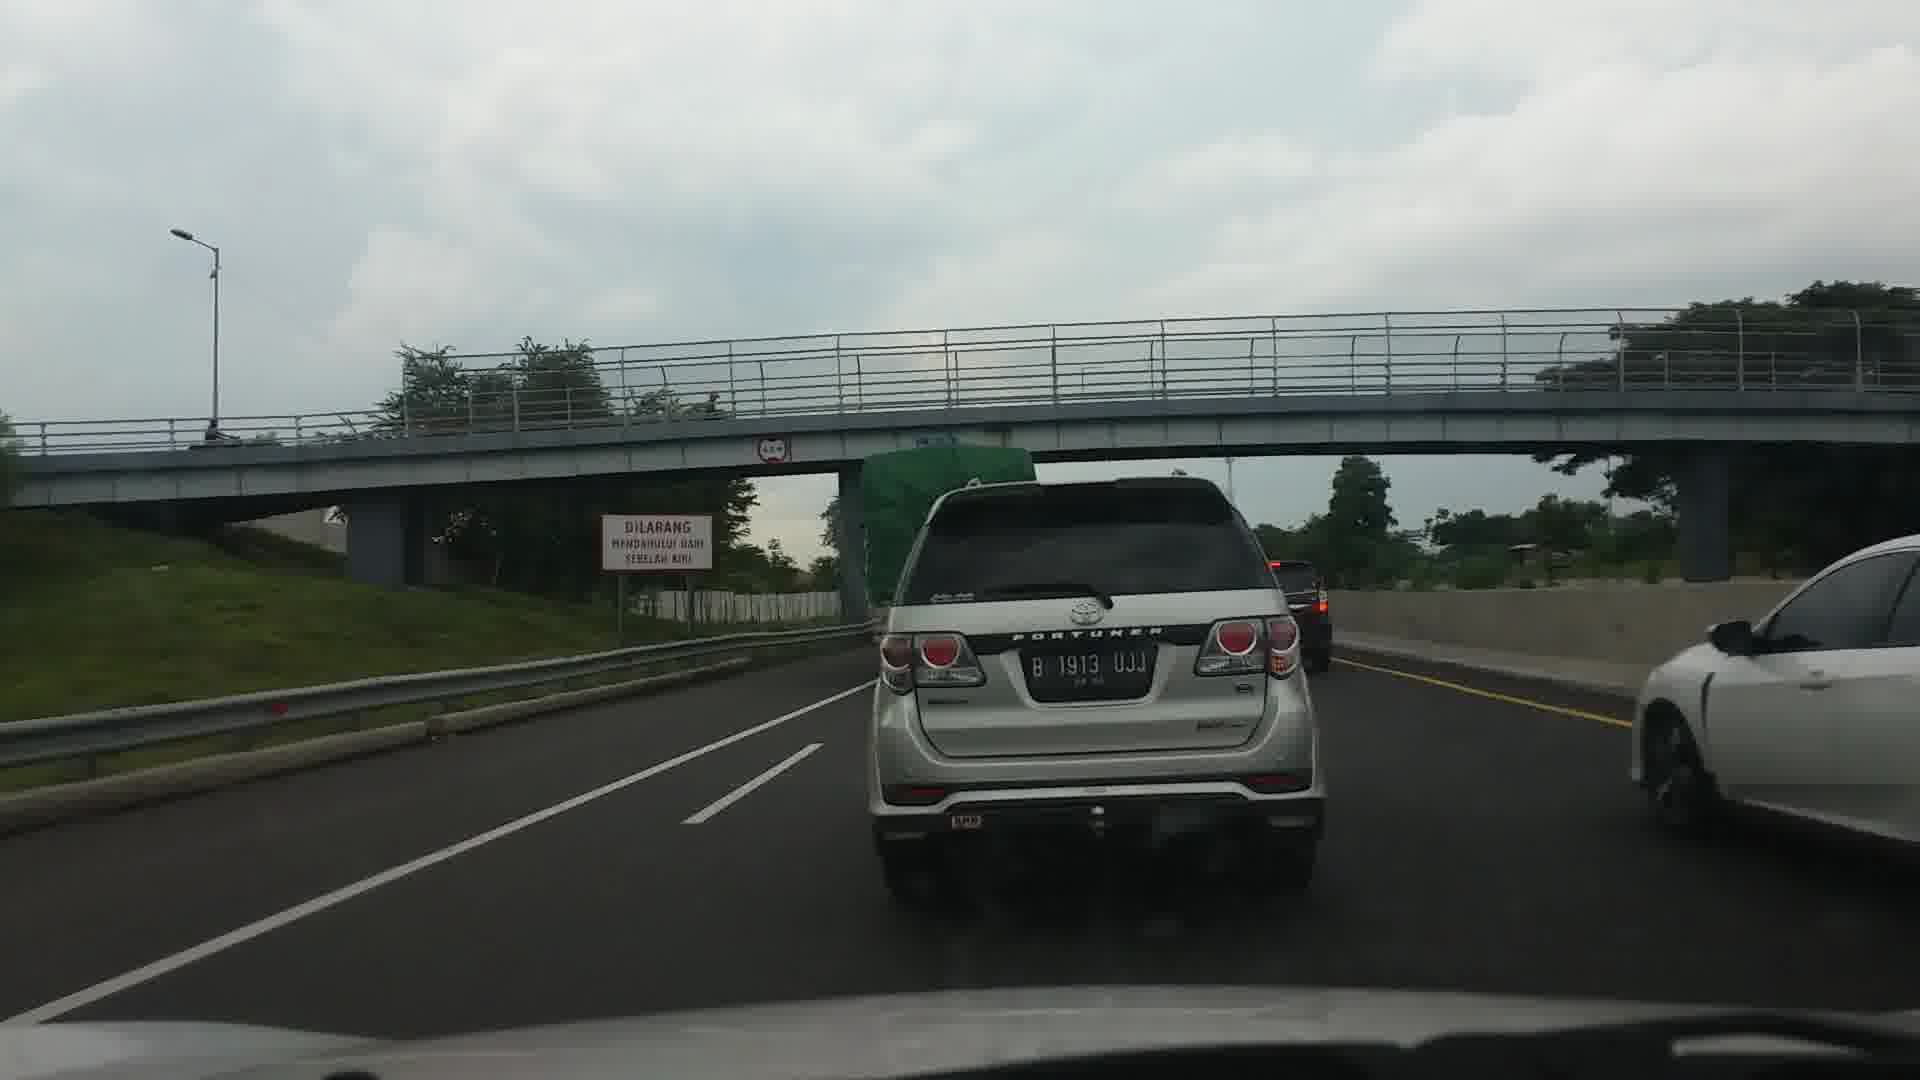plate_positive: (1027, 649, 1151, 688)
